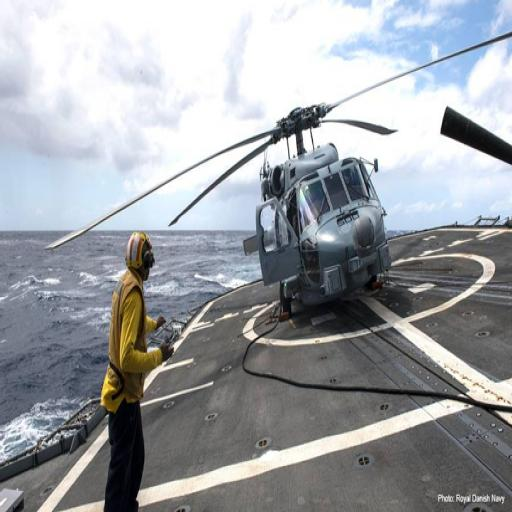helicopter: (45, 24, 512, 354)
